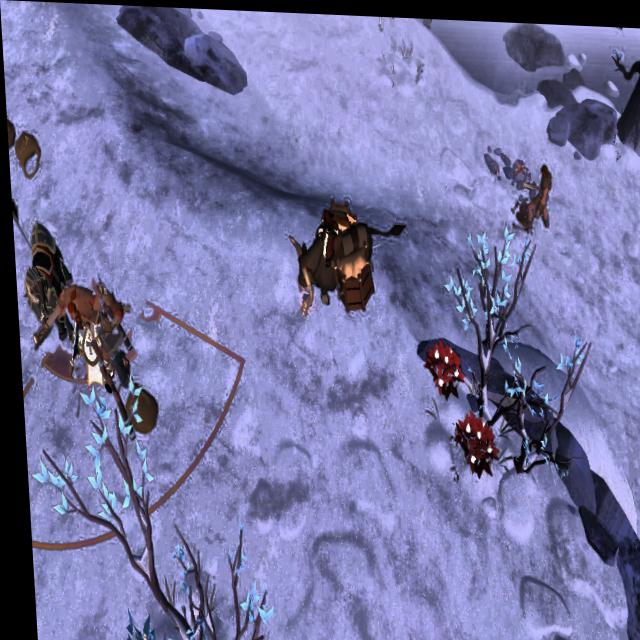enemy_factionKeeper: (524, 156, 556, 222)
fiber_t5: (445, 406, 495, 477), (412, 332, 461, 396)
